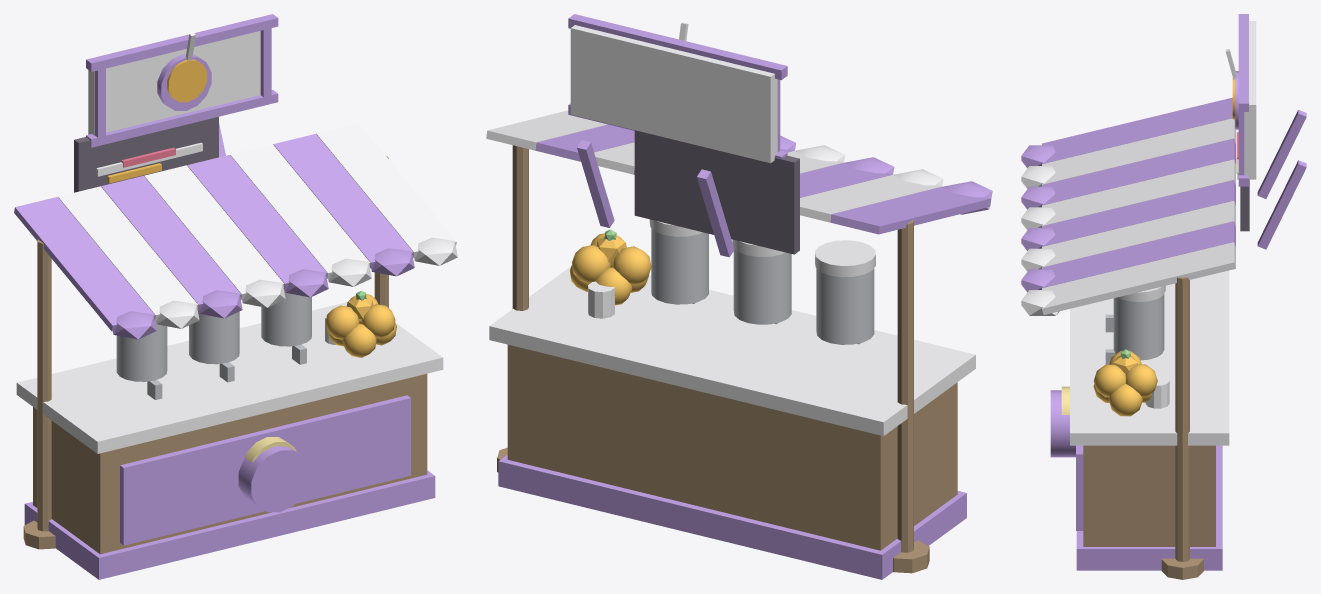
File: stall_juice.glb
3 views of the same model, side by side, from view 1: azimuth 30°, elevation 25°; view 2: azimuth 150°, elevation 25°; view 3: azimuth 270°, elevation 25° (orthographic). The views are drawn at different scales.
Visible parts, largest first — view 1: stall_juice; view 2: stall_juice; view 3: stall_juice.
Part boxes in pixels (bbox=[...]): stall_juice: bbox=[14, 14, 457, 579]; stall_juice: bbox=[486, 14, 992, 579]; stall_juice: bbox=[1021, 14, 1306, 579].
Size of the model in its own units: 3.21 by 3.67 by 2.15.
